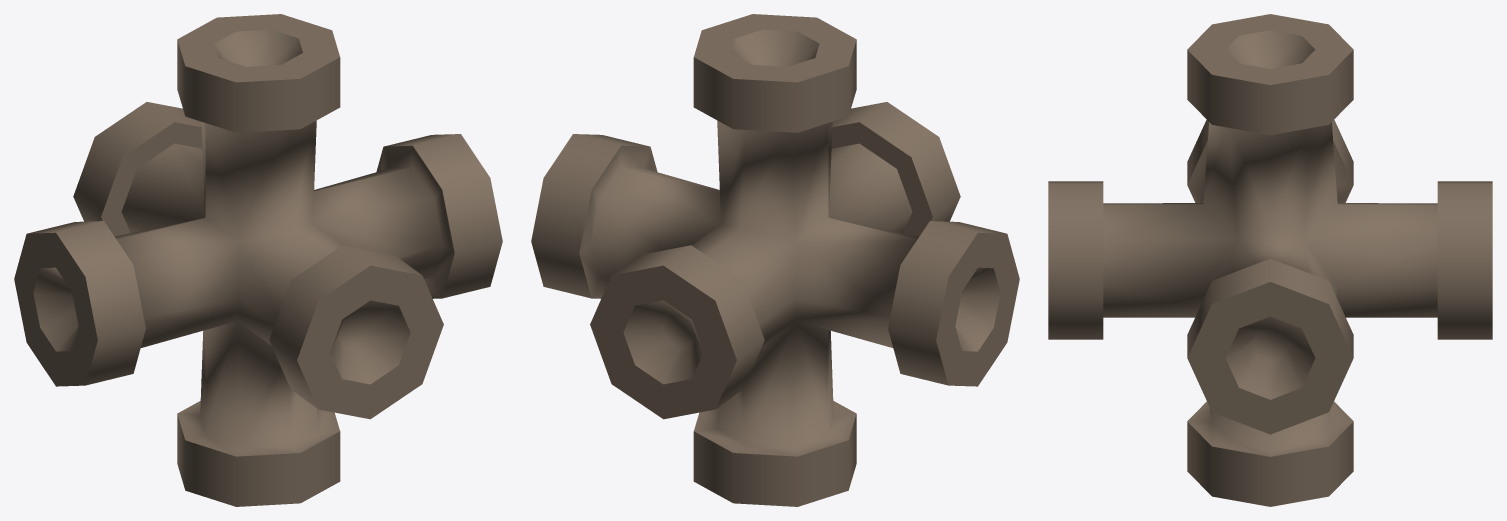
File: ew-pipe-bend.glow-v1.lod0.glb
The picture shows the model from 3 angles, left to right: view 1: azimuth 30°, elevation 25°; view 2: azimuth 150°, elevation 25°; view 3: azimuth 270°, elevation 25°; orthographic projection.
Visible parts, largest first — view 1: Object_37; view 2: Object_37; view 3: Object_37.
Part boxes in pixels (left/top/right/bottom): Object_37: left=14, top=14, right=502, bottom=506; Object_37: left=531, top=14, right=1019, bottom=506; Object_37: left=1048, top=14, right=1492, bottom=506.
Size of the model in its own units: 7.6 by 7.61 by 7.27.
